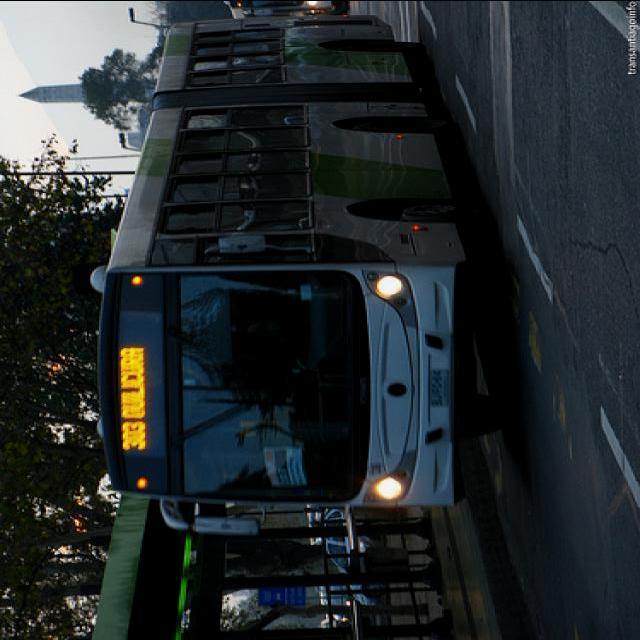bus: (88, 15, 510, 537)
